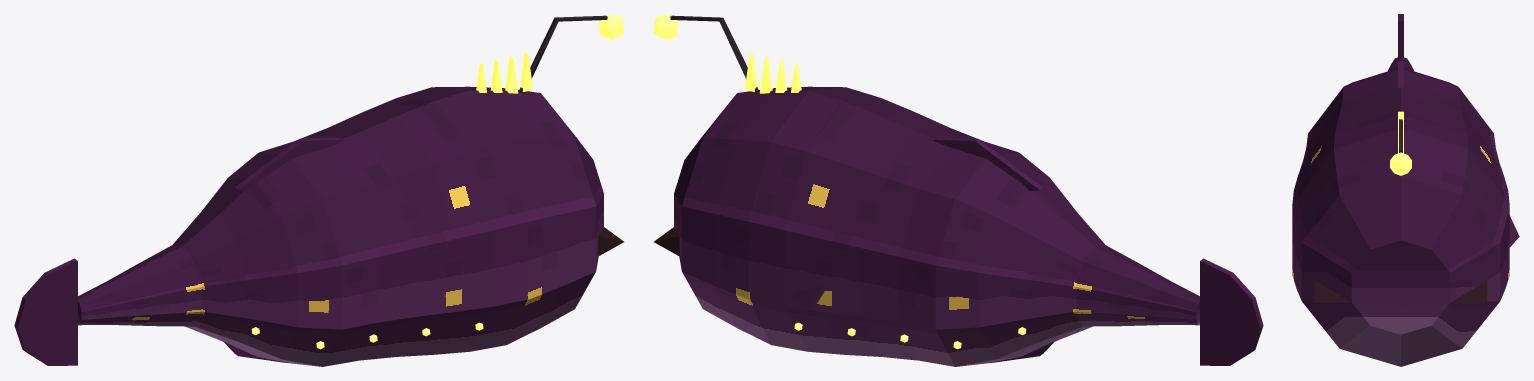
File: the_lantern_queen.glb
3 views of the same model, side by side, from view 1: azimuth 30°, elevation 25°; view 2: azimuth 150°, elevation 25°; view 3: azimuth 270°, elevation 25° (orthographic). The views are drawn at different scales.
Visible parts, largest first — view 1: fish_the_lantern_queen; view 2: fish_the_lantern_queen; view 3: fish_the_lantern_queen.
Part boxes in pixels (left/top/right/bottom): fish_the_lantern_queen: left=14, top=14, right=624, bottom=366; fish_the_lantern_queen: left=653, top=14, right=1263, bottom=366; fish_the_lantern_queen: left=1292, top=14, right=1519, bottom=366.
Bounding box in the file's own units: 1.21 × 0.5778 × 0.4375.
Materials: 9 (1 with a texture image).
